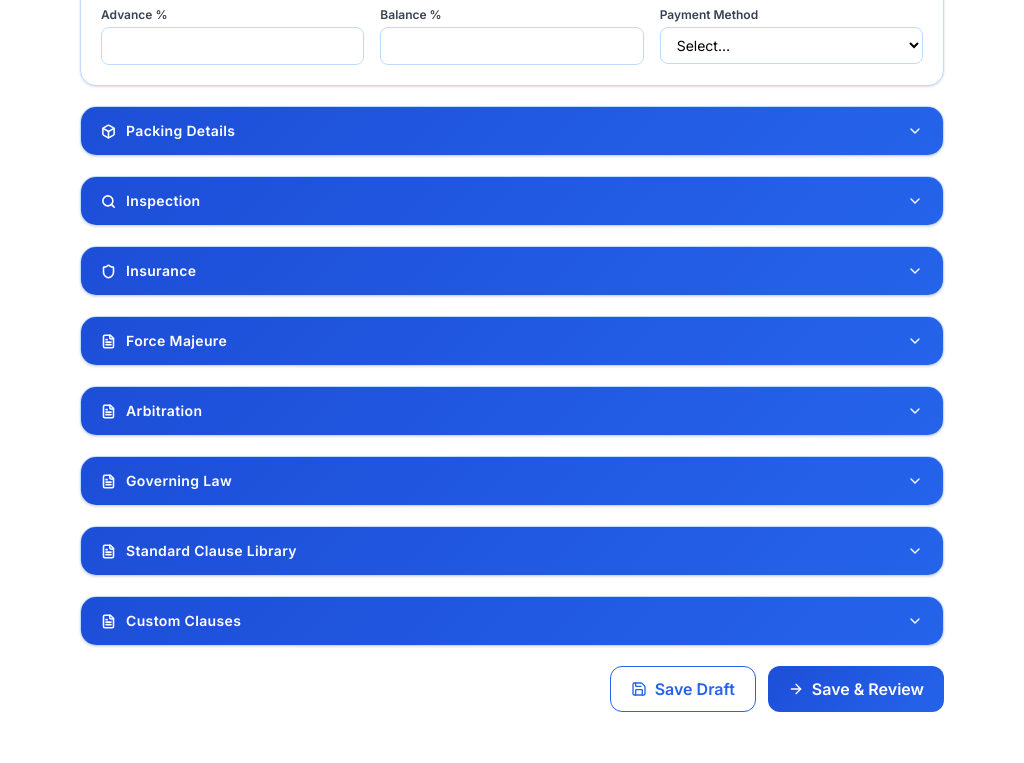
ContractDraftFormPage › enables a standard clause and shows its default content
(page scrolled)
Click the button "Standard Clause Library". click: click(211, 550)
box: [81, 527, 943, 575]
(page scrolled)
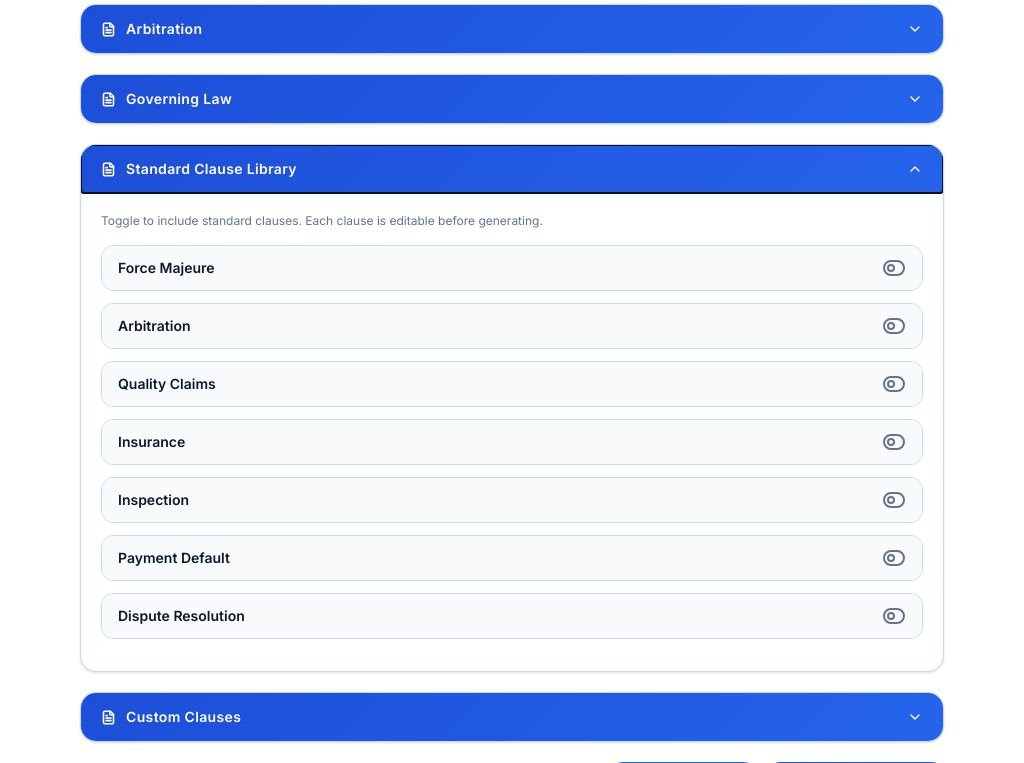
Click the button without text in the row of "Quality Claims". click: click(894, 384)
box: [882, 372, 906, 396]
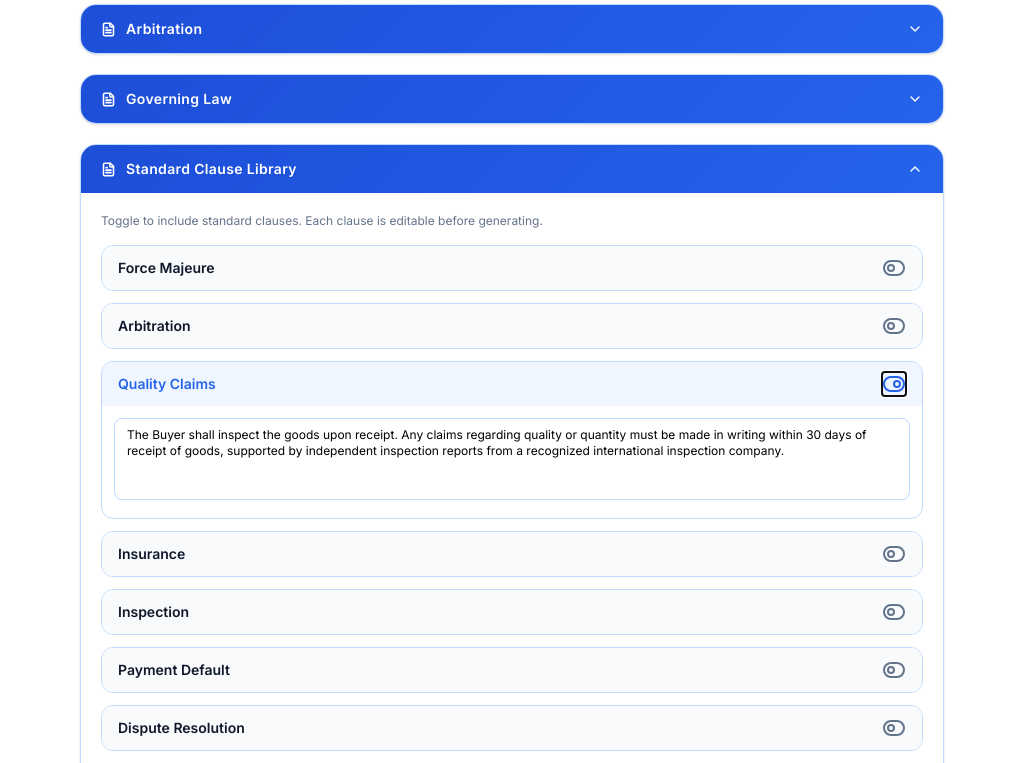
Now the text box showing "The Buyer shall inspect the goods upon receipt" is shown, box [114, 418, 910, 500]
